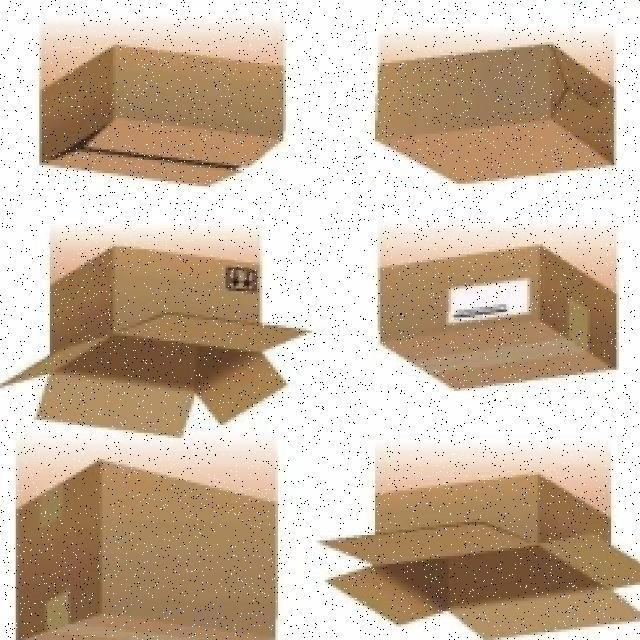box: (13, 240, 306, 452), (330, 464, 640, 640), (23, 33, 328, 187), (15, 472, 292, 640), (370, 242, 640, 414), (362, 39, 640, 194)
